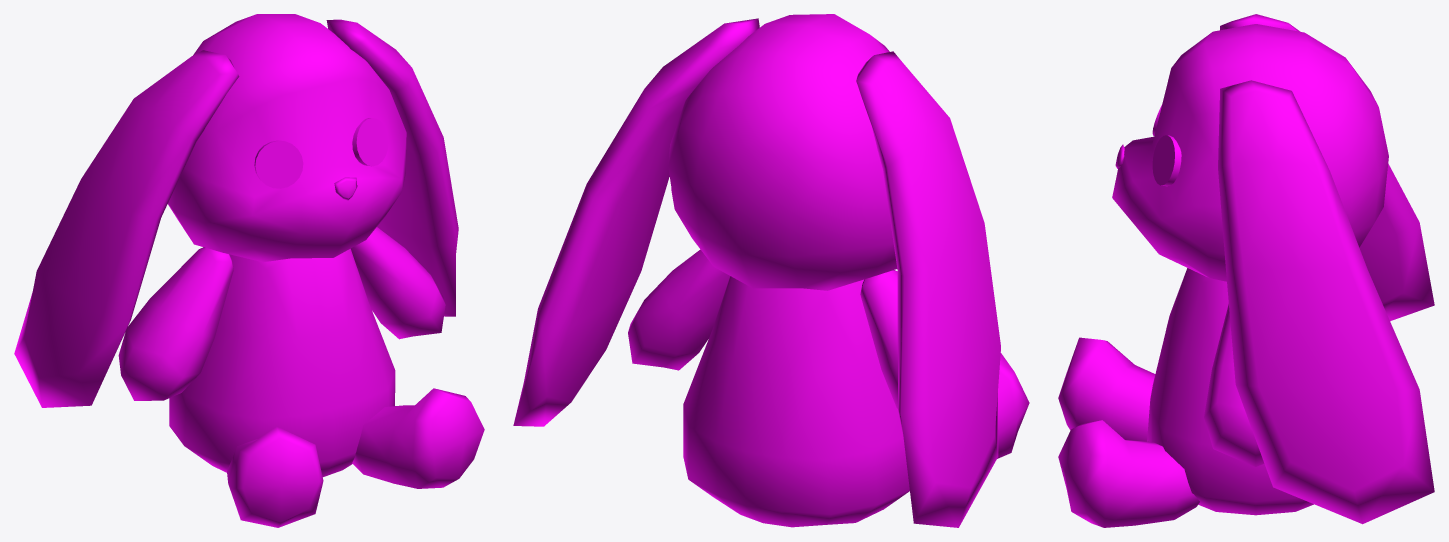
The model's file is BossEnemyBlend.glb.
3 views of the same model, side by side, from view 1: azimuth 30°, elevation 25°; view 2: azimuth 150°, elevation 25°; view 3: azimuth 270°, elevation 25° (orthographic). The views are drawn at different scales.
Parts seen in each view (by area): view 1: pCube13; view 2: pCube13; view 3: pCube13.
Part boxes in pixels (x1,y1,x2,y2): pCube13: (14,14,484,527); pCube13: (513,14,1029,527); pCube13: (1058,14,1434,527).
Size of the model in its own units: 5.43 by 5.71 by 4.3.
